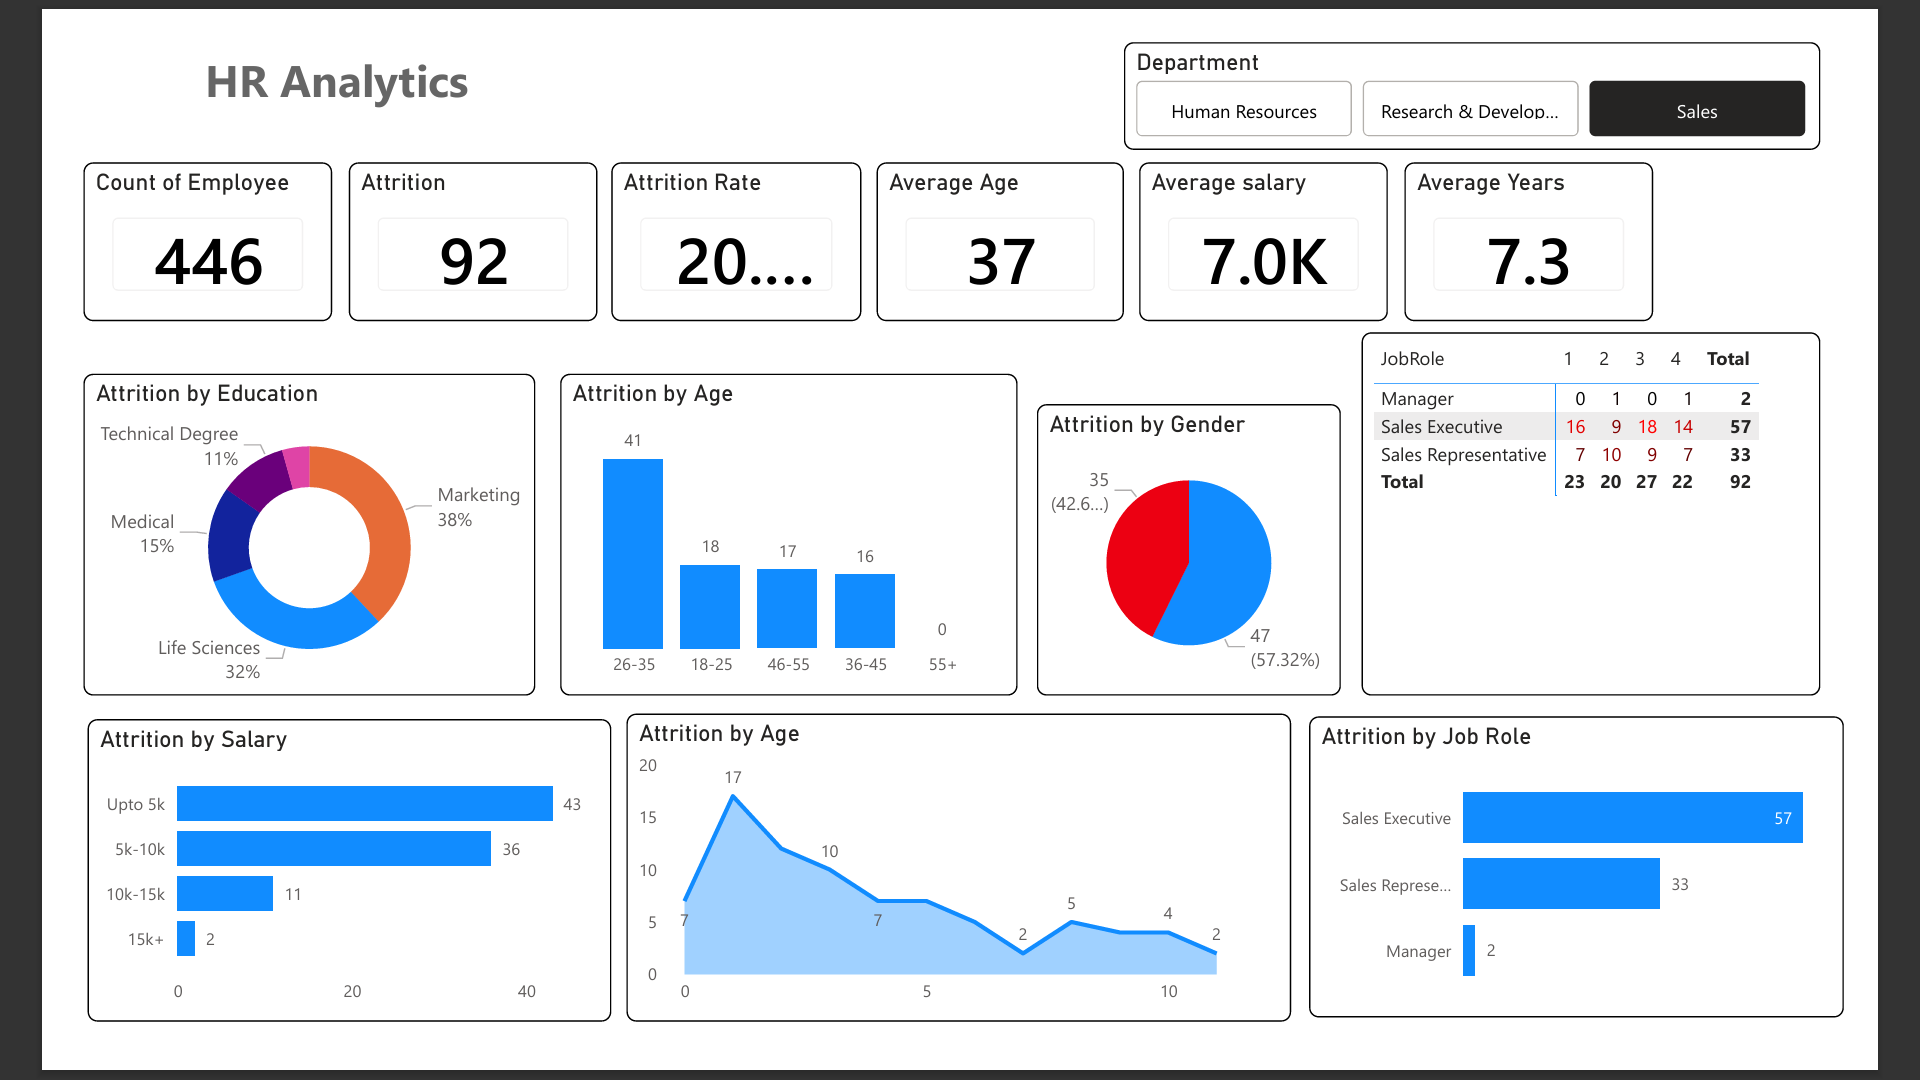

The page's visual inventory and layout, read from the dashboard file:
{"tool":"powerbi","page":{"name":"Page 1","canvas":[1280,720],"ordinal":0},"visuals":[{"type":"cardVisual","title":"Count of Employee","fields":{"Data":["CountNonNull(HR_Analytics.EmpID)"]},"box":[6.1,86.8,179.8,114.9],"z":0},{"type":"cardVisual","title":"Attrition","fields":{"Data":["Sum(HR_Analytics.AttritionCount)"]},"box":[198.1,86.8,179.8,114.9],"z":1000},{"type":"cardVisual","title":"Attrition Rate","fields":{"Data":["HR_Analytics.AttritionRate"]},"box":[387.6,86.8,181,114.9],"z":2000},{"type":"cardVisual","title":"Average Age","fields":{"Data":["Avg(HR_Analytics.Age)"]},"box":[579.6,86.8,179.8,114.9],"z":3000},{"type":"cardVisual","title":"Average salary ","fields":{"Data":["Avg(HR_Analytics.MonthlyIncome)"]},"box":[770.4,86.8,179.8,114.9],"z":4000},{"type":"cardVisual","title":"Average Years","fields":{"Data":["Avg(HR_Analytics.YearsAtCompany)"]},"box":[962.4,86.8,179.8,114.9],"z":5000},{"type":"donutChart","title":"Attrition by Education","fields":{"Category":["HR_Analytics.EducationField"],"Y":["Sum(HR_Analytics.AttritionCount)"]},"box":[6.1,239.7,326.5,233.6],"z":6000},{"type":"columnChart","title":"Attrition by Age","fields":{"Category":["HR_Analytics.AgeGroup"],"Y":["Sum(HR_Analytics.AttritionCount)"]},"box":[351,239.7,331.4,233.6],"z":7000},{"type":"pivotTable","fields":{"Rows":["HR_Analytics.JobRole"],"Columns":["HR_Analytics.JobSatisfaction"],"Values":["Sum(HR_Analytics.AttritionCount)"]},"box":[930.6,210.3,332.6,262.9],"z":8000},{"type":"clusteredBarChart","title":"Attrition by Salary ","fields":{"Category":["HR_Analytics.SalarySlab"],"Y":["Sum(HR_Analytics.AttritionCount)"]},"box":[8.8,490,378.8,218.8],"z":9000},{"type":"barChart","title":"Attrition by Job Role","fields":{"Category":["HR_Analytics.JobRole"],"Y":["Sum(HR_Analytics.AttritionCount)"]},"box":[892.5,487.5,387.5,218.8],"z":10000},{"type":"areaChart","title":"Attrition by Age","fields":{"Category":["HR_Analytics.YearsAtCompany"],"Y":["Sum(HR_Analytics.AttritionCount)"]},"box":[398.8,486.2,481.2,222.5],"z":11000},{"type":"pieChart","title":"Attrition by Gender","fields":{"Category":["HR_Analytics.Gender"],"Y":["Sum(HR_Analytics.AttritionCount)"]},"box":[695.8,261.7,220.1,211.6],"z":12000},{"type":"textbox","box":[8.8,0,370,57.5],"z":13000},{"type":"advancedSlicerVisual","fields":{"Values":["HR_Analytics.Department"]},"box":[759.4,0,503.8,78.3],"z":14000}]}

Visuals, with their boxes in screenshot pixels (x1, y1, x2, y2), scaled from the page's 1280x720 canvas onto the 1920x1080 screenshot:
"Count of Employee" cardVisual: x1=9, y1=130, x2=279, y2=303
"Attrition" cardVisual: x1=297, y1=130, x2=567, y2=303
"Attrition Rate" cardVisual: x1=581, y1=130, x2=853, y2=303
"Average Age" cardVisual: x1=869, y1=130, x2=1139, y2=303
"Average salary " cardVisual: x1=1156, y1=130, x2=1425, y2=303
"Average Years" cardVisual: x1=1444, y1=130, x2=1713, y2=303
"Attrition by Education" donutChart: x1=9, y1=360, x2=499, y2=710
"Attrition by Age" columnChart: x1=526, y1=360, x2=1024, y2=710
pivotTable - HR_Analytics.JobRole x HR_Analytics.JobSatisfaction: x1=1396, y1=315, x2=1895, y2=710
"Attrition by Salary " clusteredBarChart: x1=13, y1=735, x2=581, y2=1063
"Attrition by Job Role" barChart: x1=1339, y1=731, x2=1919, y2=1059
"Attrition by Age" areaChart: x1=598, y1=729, x2=1320, y2=1063
"Attrition by Gender" pieChart: x1=1044, y1=393, x2=1374, y2=710
textbox: x1=13, y1=0, x2=568, y2=86
advancedSlicerVisual - HR_Analytics.Department: x1=1139, y1=0, x2=1895, y2=117
